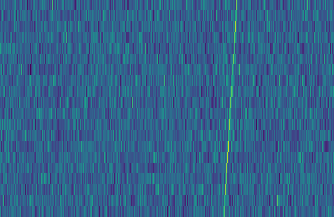signal: (220, 0, 242, 217)
